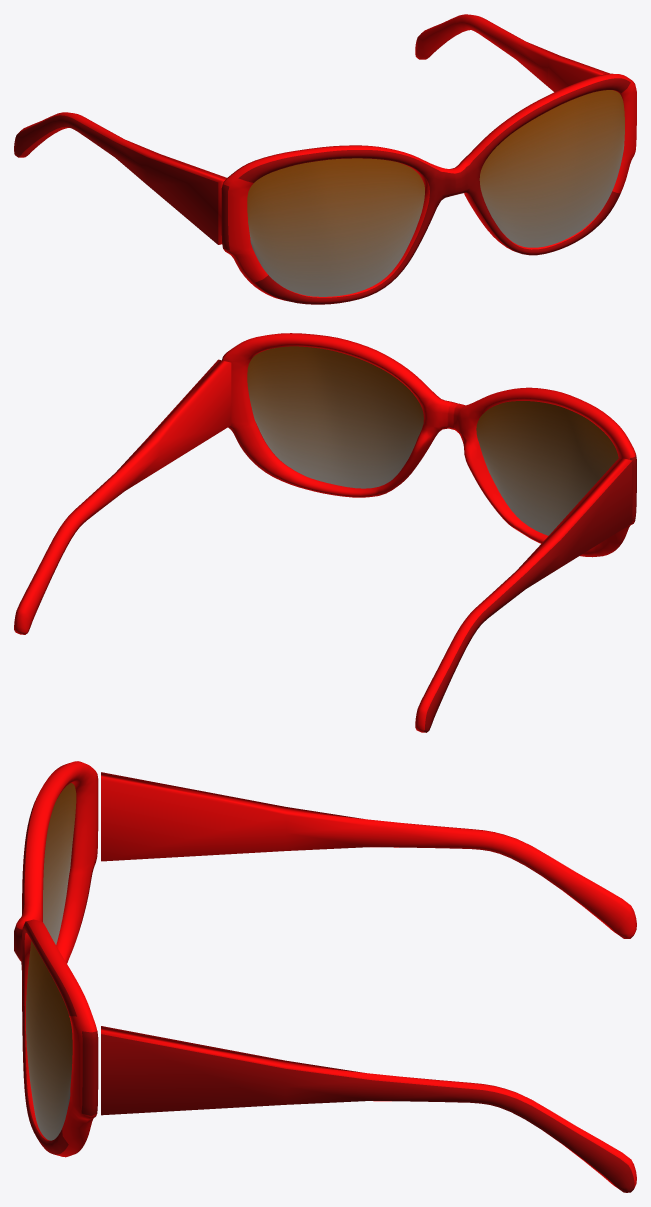
The model's file is redglasses.obj.
3 renders of one model, top to bottom at view 1: azimuth 30°, elevation 25°; view 2: azimuth 150°, elevation 25°; view 3: azimuth 270°, elevation 25°, orthographic. The views are drawn at different scales.
Bounding box in the file's own units: 38.98 × 13.99 × 39.16.
Materials: 4 (1 with a texture image).
